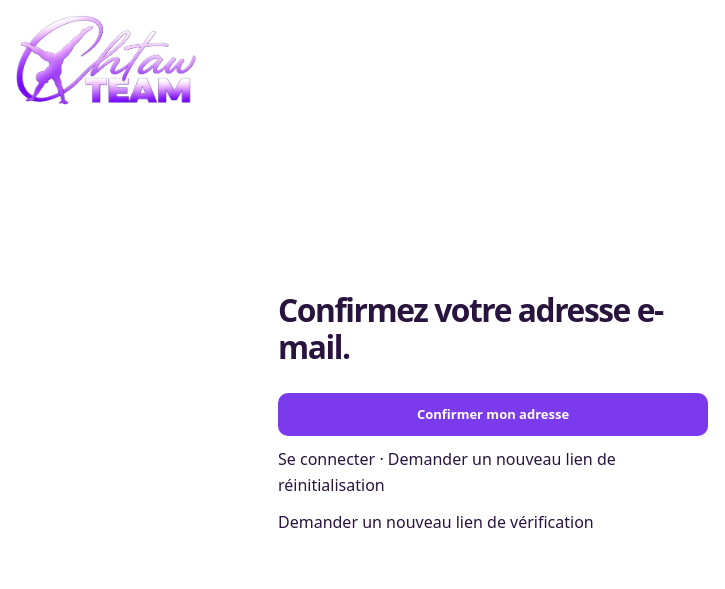
Scenario: Firebase email pages › shows an expired verification link and offers recovery
This screenshot has width=725, height=589.
What coordinates should you click on to do the following:
click the button "Confirmer mon adresse"
I would click on:
 (493, 414)
Its box is [278,393,708,436].
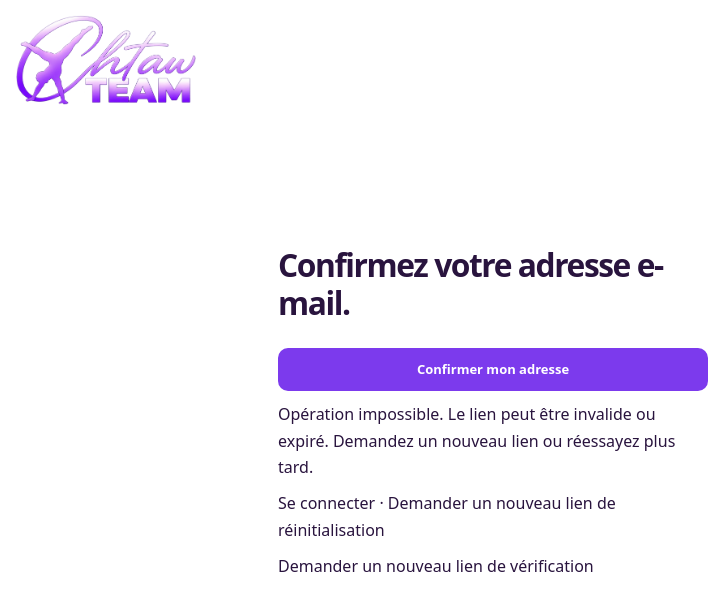
Result: the message shows "invalide ou expiré" at [278,403,675,478]
